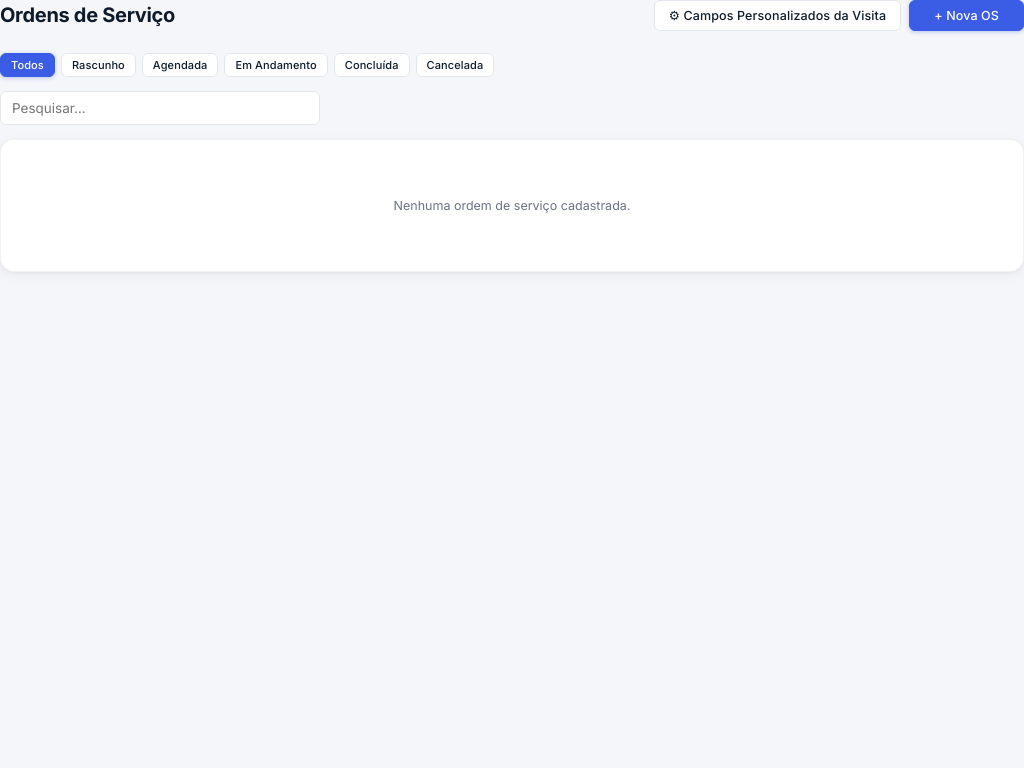
Scenario: ServiceOrdersPage — Campos Personalizados de Visita › mostra o botão e lista os campos já cadastrados pra quem tem service_visit_fields:view
Click the button "⚙ Campos Personalizados da Visita" at (777, 16), box x1=654 y1=0 x2=901 y2=31
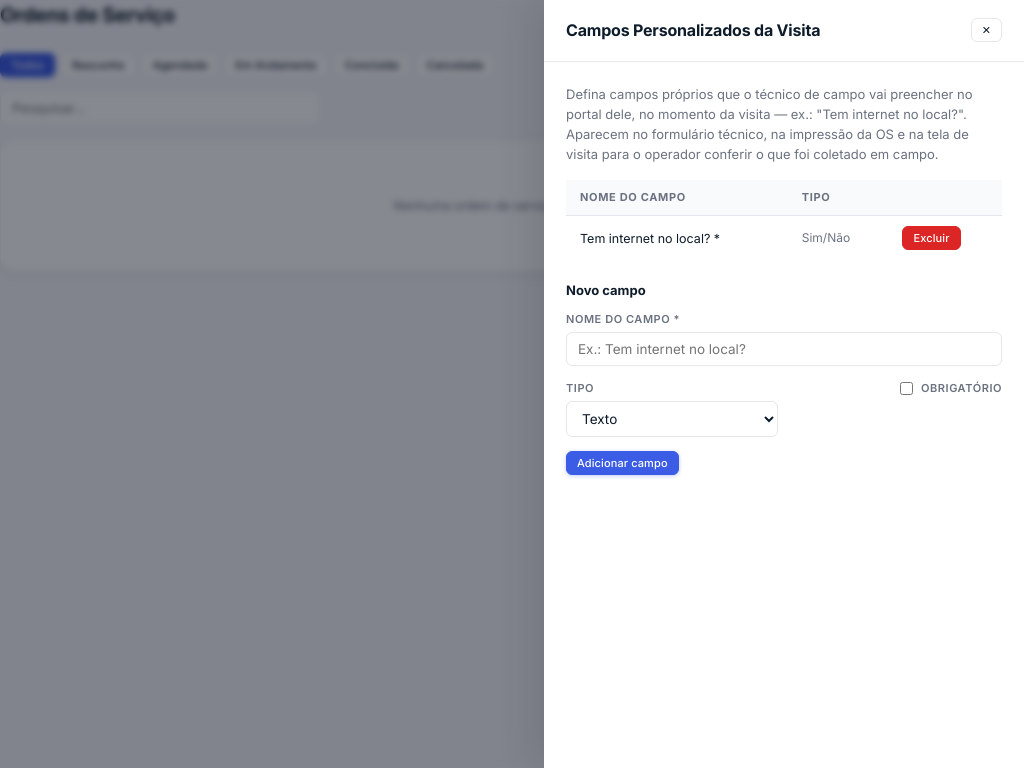
Now the text "Tem internet no local" is shown, box x1=566 y1=86 x2=972 y2=162
